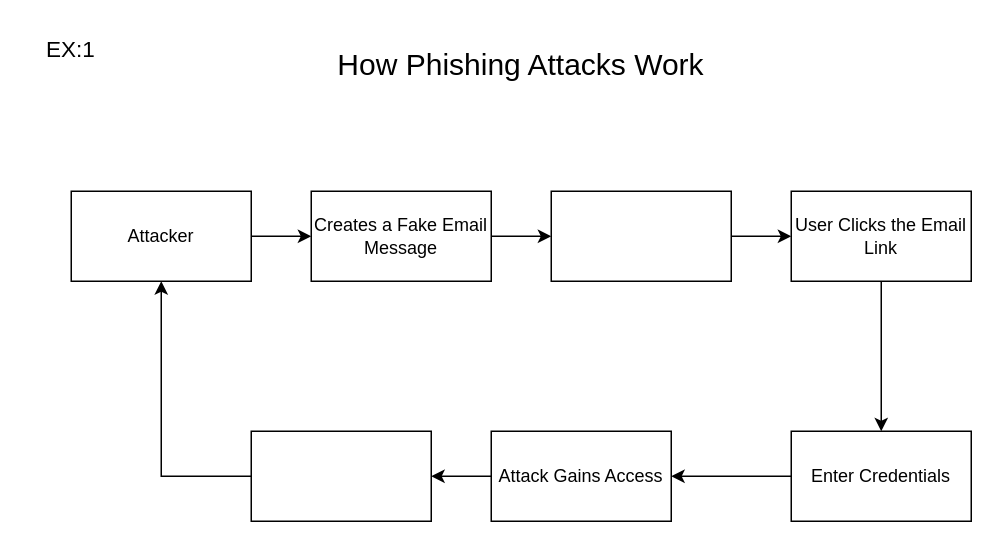
Some shapes in this 998 by 548 pixel diagram are drawn without their labels. Here are the shapes that lost their labels. From the top down, the centre of each, then its label:
At (x=640, y=235): "Send Email".
At (x=340, y=475): "Account Compromised".
